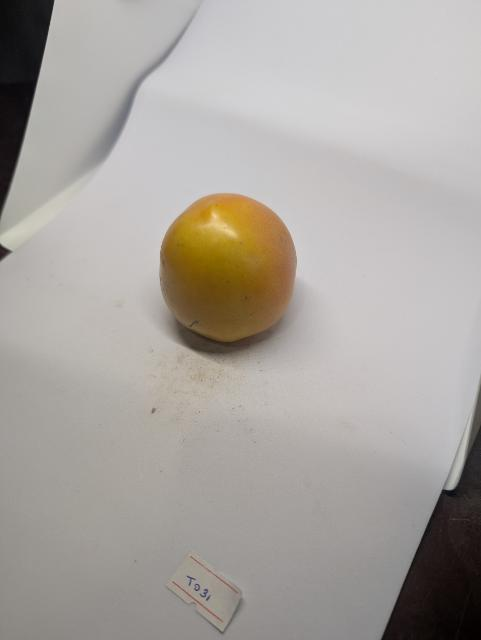turning: (152, 179, 312, 360)
